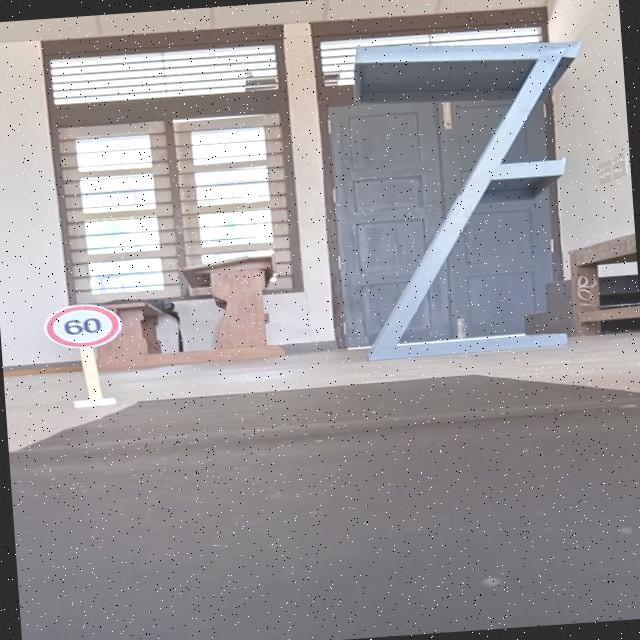Speed60: (40, 299, 125, 353)
